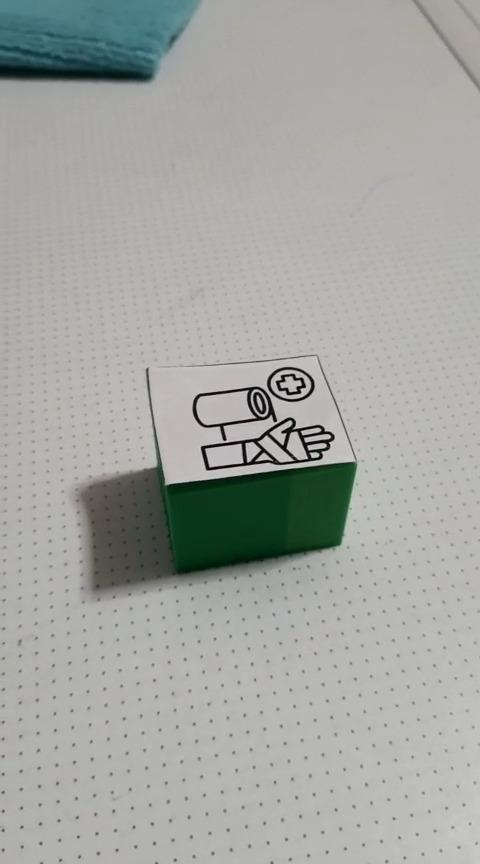Bandages: (145, 353, 357, 574)
